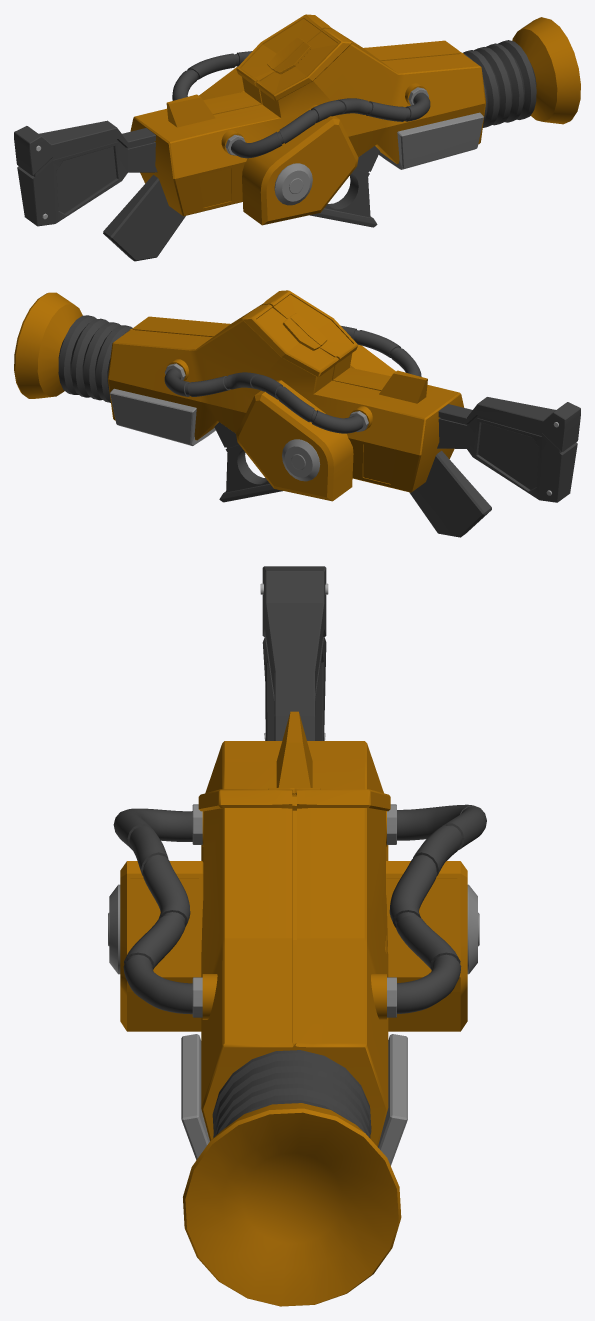
Rendered from Weapon_StandardFinish.fbx.
3 renders of one model, top to bottom at view 1: azimuth 30°, elevation 25°; view 2: azimuth 150°, elevation 25°; view 3: azimuth 270°, elevation 25°, orthographic. The views are drawn at different scales.
Parts seen in each view (by area): view 1: polySurface2, pCube8, pCylinder1, pCube7, pCube9, sweep2, polySurface3, polySurface1, sweep3, pCylinder4, pCube10; view 2: polySurface2, pCube8, pCylinder1, pCube10, pCube9, sweep3, polySurface3, polySurface1, pCylinder16, sweep2, pCube7; view 3: polySurface2, pCylinder1, pCube8, sweep3, sweep2, pCube7, pCube10, polySurface3, pCylinder4, pCylinder16.
Part boxes in pixels (x1=…): polySurface2: x1=130, y1=14, x2=485, y2=216; pCube8: x1=14, y1=120, x2=157, y2=226; pCylinder1: x1=463, y1=17, x2=580, y2=127; pCube7: x1=242, y1=105, x2=358, y2=225; pCube9: x1=103, y1=175, x2=185, y2=261; sweep2: x1=231, y1=92, x2=430, y2=158; polySurface3: x1=379, y1=112, x2=483, y2=169; polySurface1: x1=310, y1=146, x2=379, y2=227; sweep3: x1=172, y1=51, x2=252, y2=100; pCylinder4: x1=274, y1=163, x2=312, y2=205; pCube10: x1=199, y1=66, x2=244, y2=100; polySurface2: x1=108, y1=290, x2=464, y2=492; pCube8: x1=437, y1=397, x2=580, y2=502; pCylinder1: x1=14, y1=292, x2=132, y2=402; pCube10: x1=236, y1=380, x2=353, y2=501; pCube9: x1=409, y1=450, x2=491, y2=537; sweep3: x1=164, y1=368, x2=363, y2=433; polySurface3: x1=110, y1=388, x2=215, y2=445; polySurface1: x1=214, y1=422, x2=282, y2=502; pCylinder16: x1=282, y1=439, x2=320, y2=481; sweep2: x1=341, y1=326, x2=421, y2=376; pCube7: x1=350, y1=344, x2=395, y2=376; polySurface2: x1=198, y1=711, x2=390, y2=1146; pCylinder1: x1=183, y1=1050, x2=401, y2=1306; pCube8: x1=262, y1=566, x2=326, y2=740; sweep3: x1=389, y1=804, x2=486, y2=1013; sweep2: x1=113, y1=808, x2=192, y2=1014; pCube7: x1=120, y1=861, x2=203, y2=1031; pCube10: x1=385, y1=861, x2=467, y2=1031; polySurface3: x1=181, y1=1034, x2=407, y2=1165; pCylinder4: x1=108, y1=884, x2=120, y2=974; pCylinder16: x1=467, y1=884, x2=479, y2=974.
Bounding box in the file's own units: 55.84 × 20.65 × 17.23.
